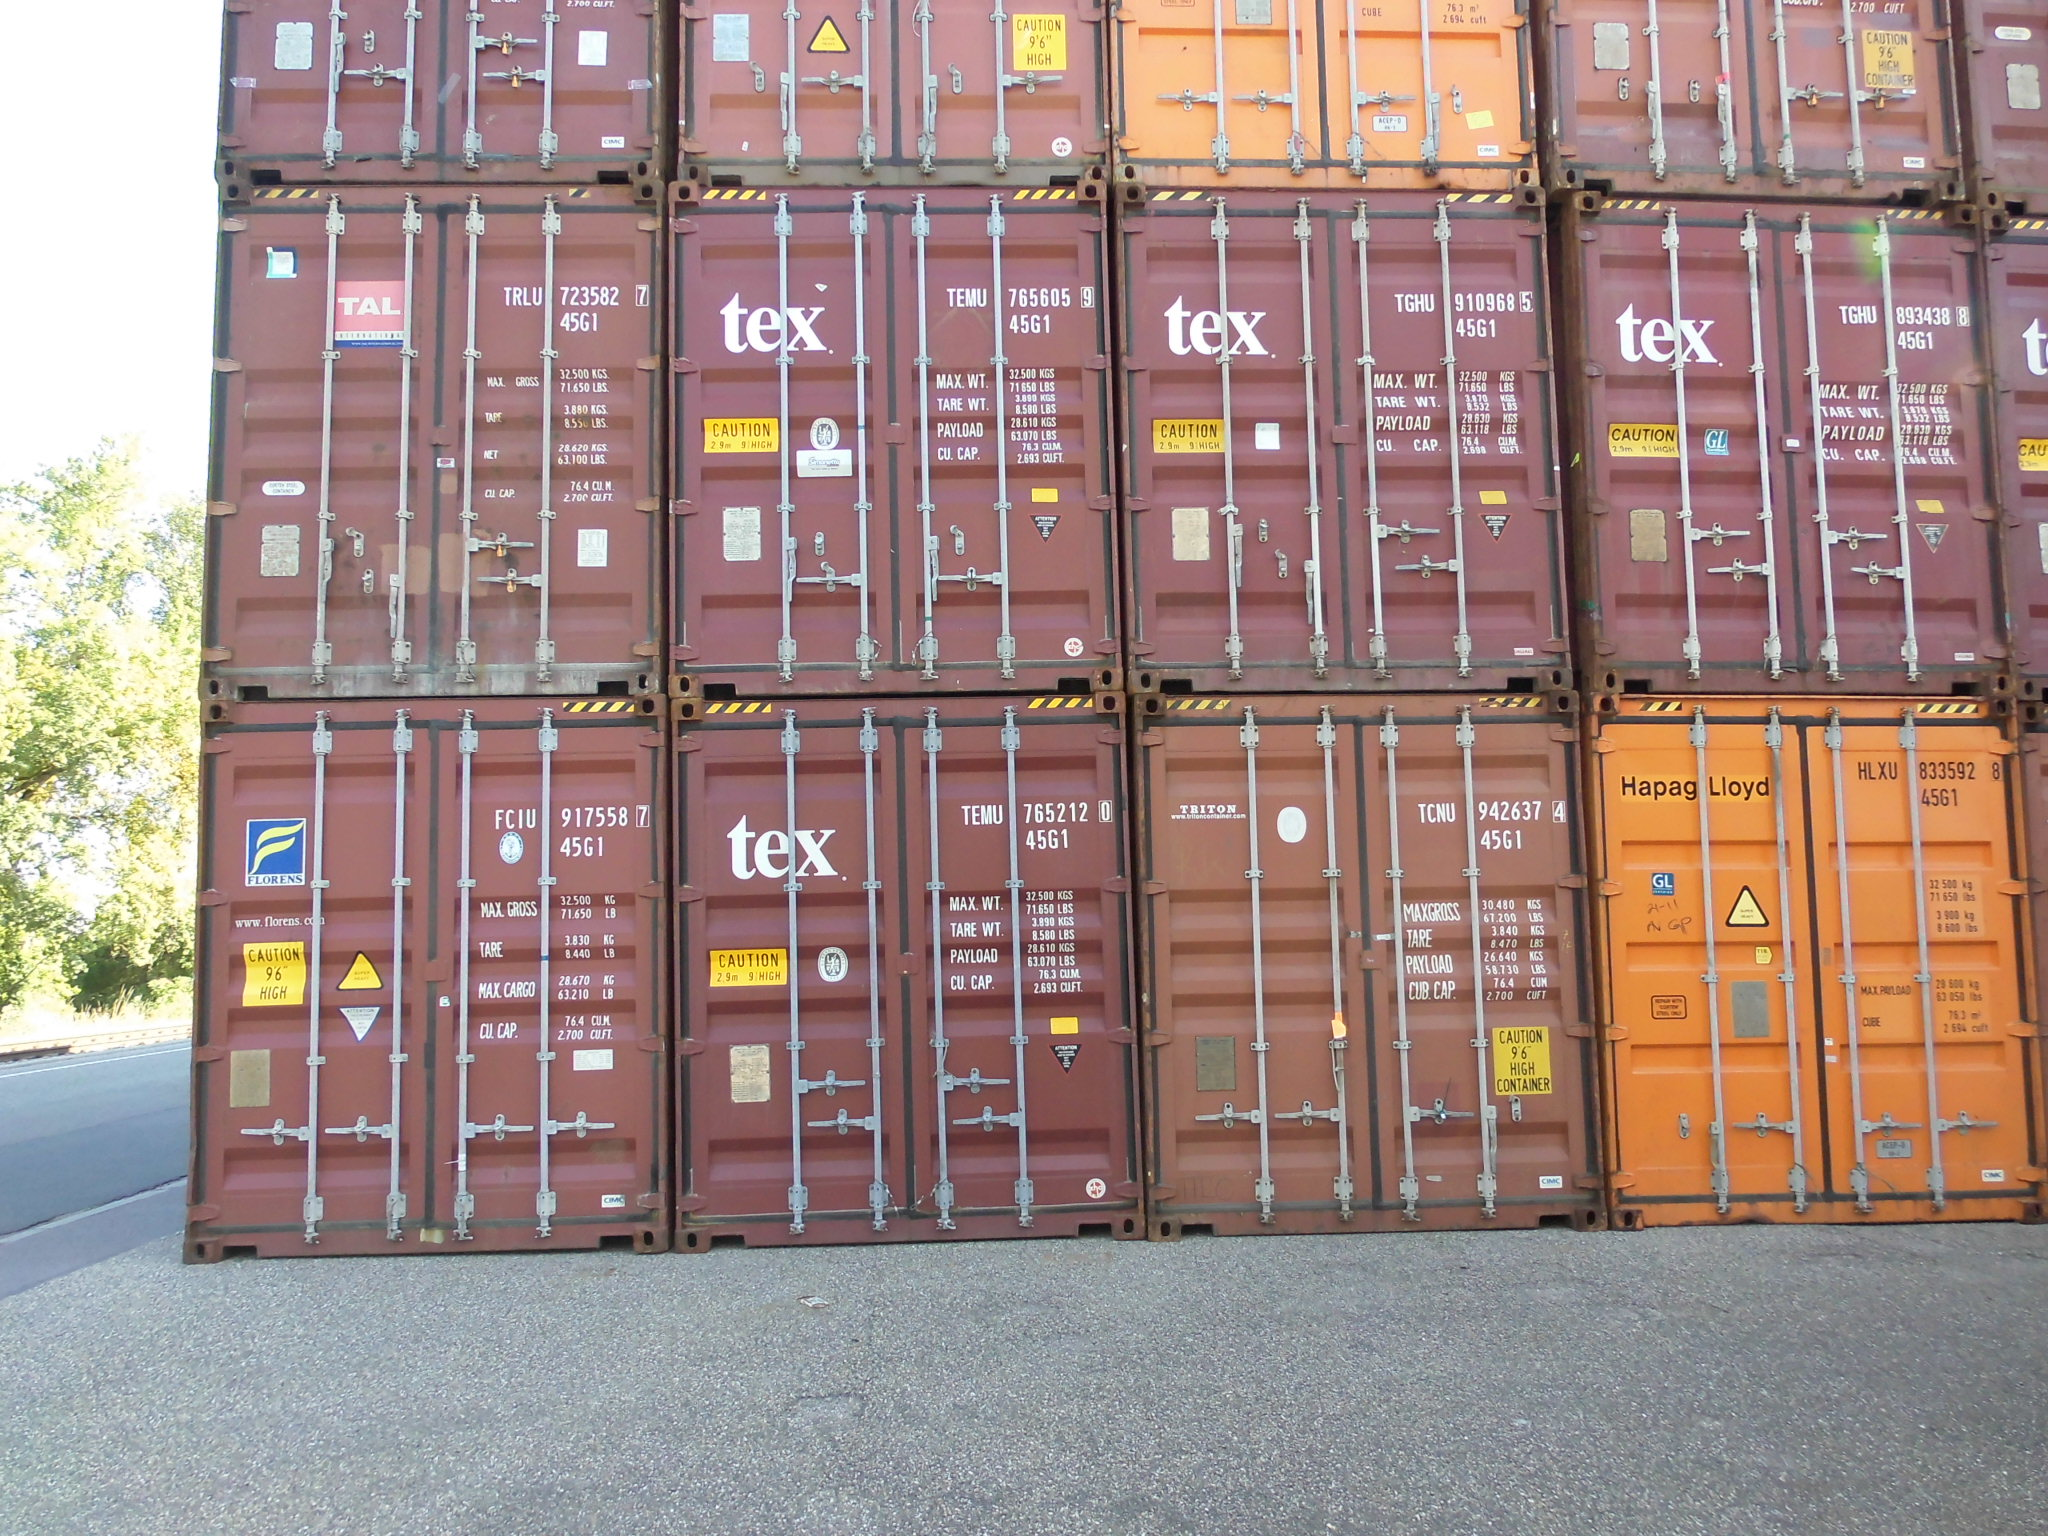container_door: (219, 179, 647, 700), (676, 174, 1101, 697), (1571, 177, 1996, 700), (690, 703, 1116, 1226), (1151, 699, 1577, 1221), (1596, 712, 2022, 1234), (214, 715, 640, 1236), (1132, 181, 1558, 702)
